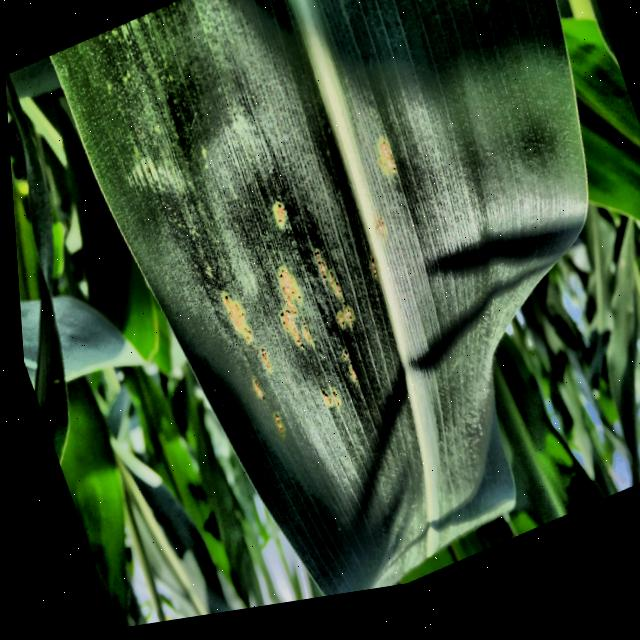common_rust: (85, 0, 597, 596)
